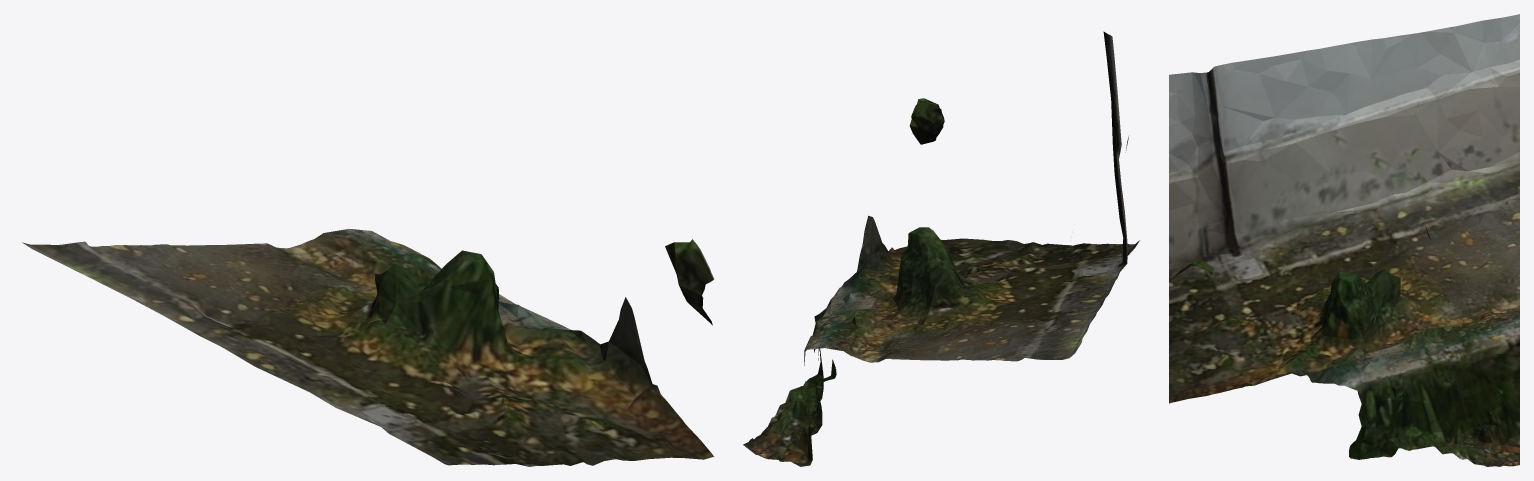
The picture shows the model from 3 angles, left to right: view 1: azimuth 30°, elevation 25°; view 2: azimuth 150°, elevation 25°; view 3: azimuth 270°, elevation 25°; orthographic projection. The views are drawn at different scales.
Bounding box in the file's own units: 3.35 × 3.32 × 3.35.
4 materials, 4 textured.
